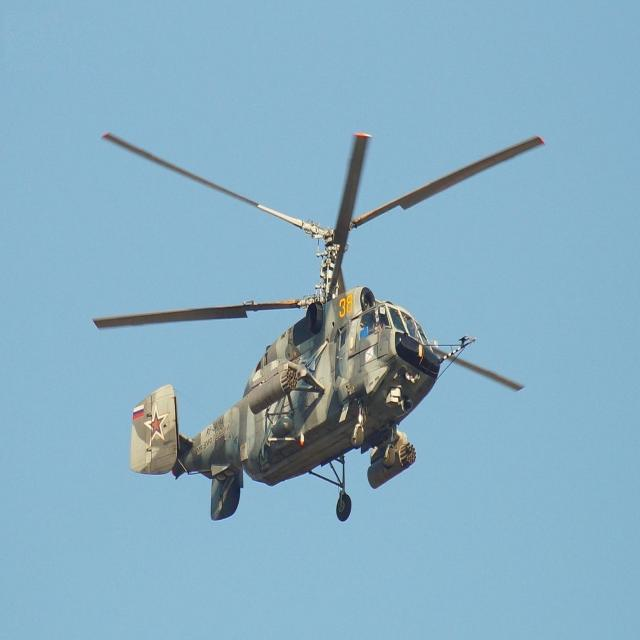MIL_HELO: (57, 92, 620, 561)
